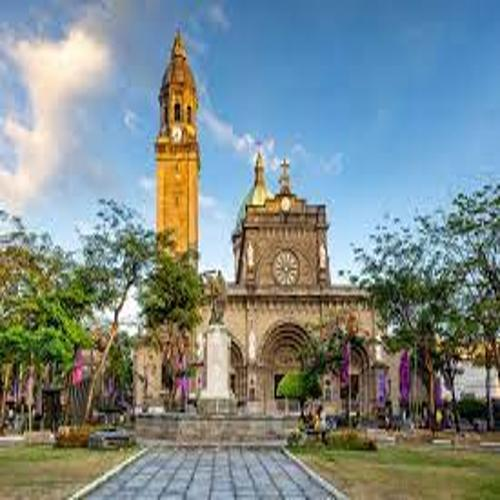Manila Cathedral Church: (101, 24, 403, 446)
